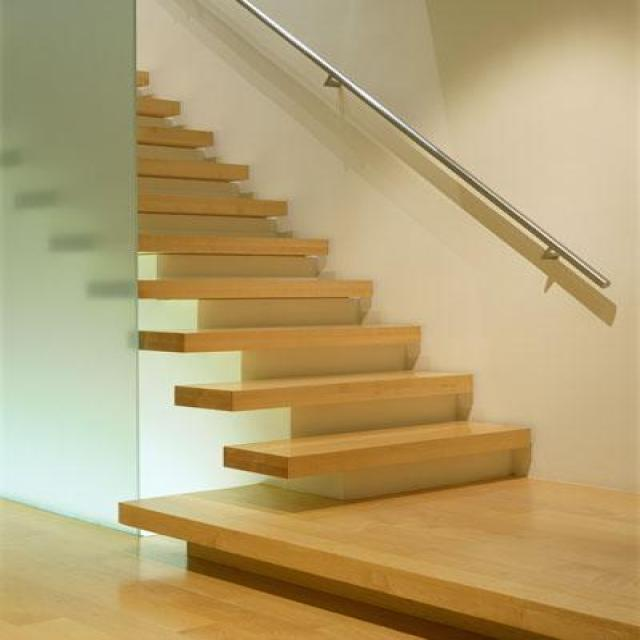upstair: (63, 68, 535, 460)
